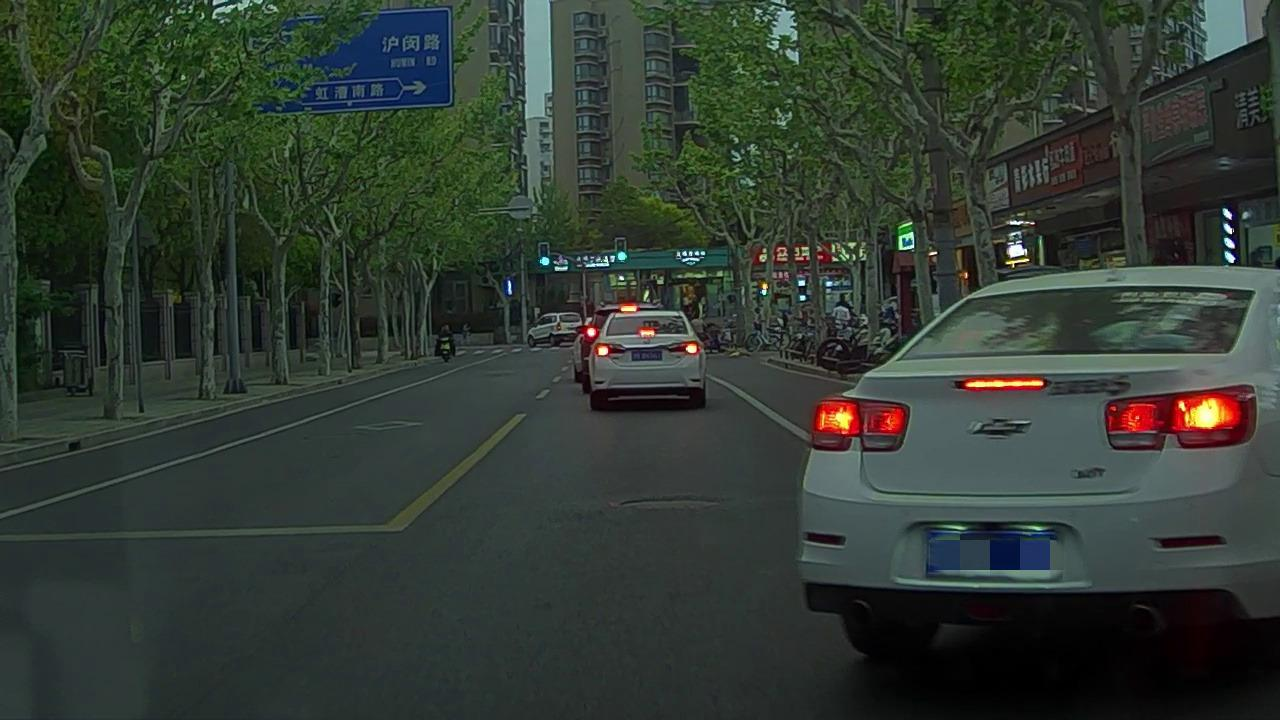traffic_light: (616, 238, 628, 263), (538, 242, 549, 268)
